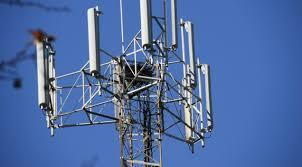antenna: (84, 3, 104, 75), (33, 38, 49, 107), (202, 58, 216, 131), (136, 0, 155, 47), (187, 18, 197, 83), (169, 0, 180, 51)
